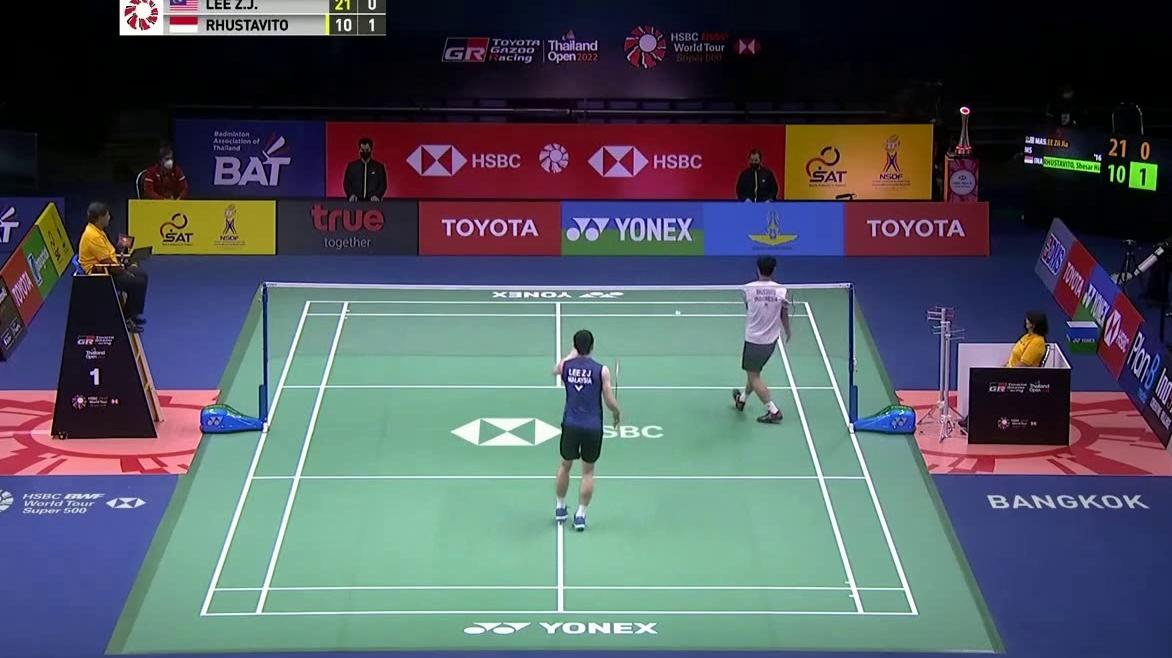racket: (787, 290, 803, 341), (615, 357, 620, 430)
shuttle: (674, 309, 682, 318)
